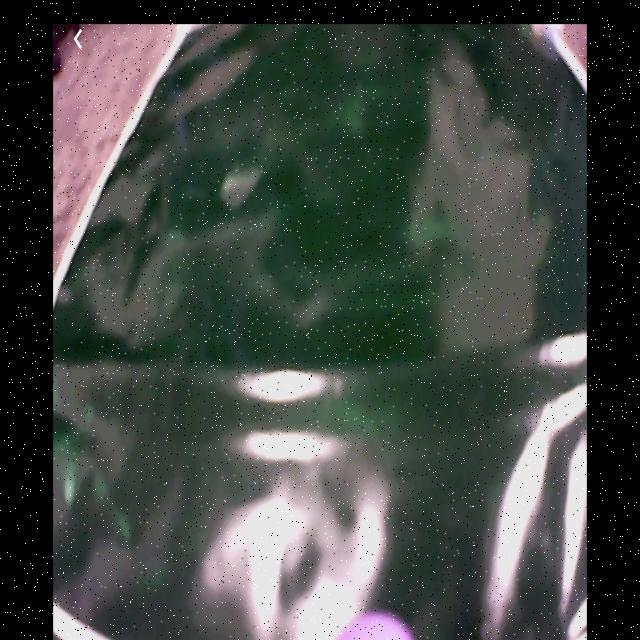ball: (341, 608, 417, 640)
